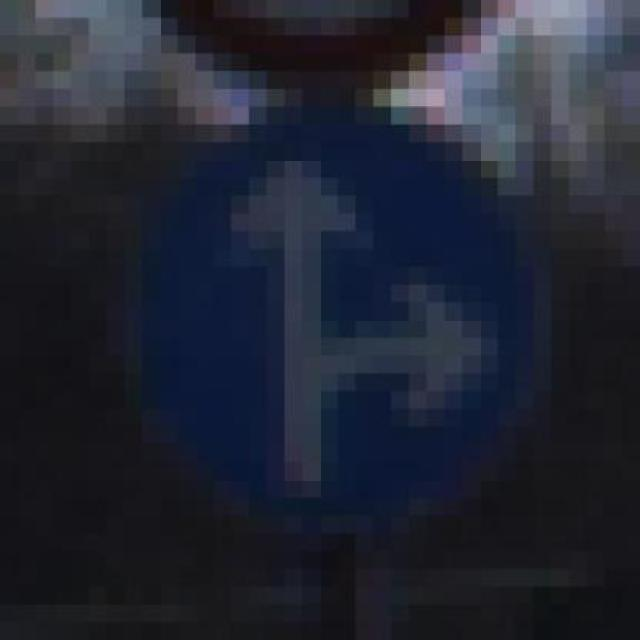Go Straight or Turn Right: (107, 71, 587, 587)
